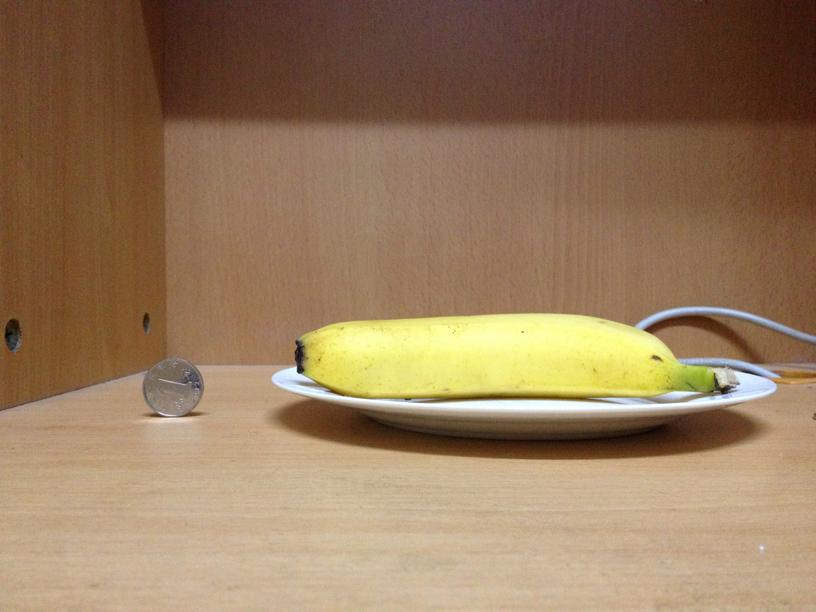banana: (289, 314, 688, 398)
coin: (139, 356, 205, 416)
